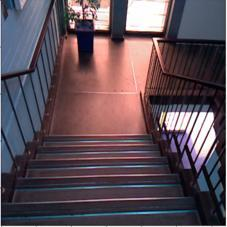Stair Down: (3, 133, 197, 221)
